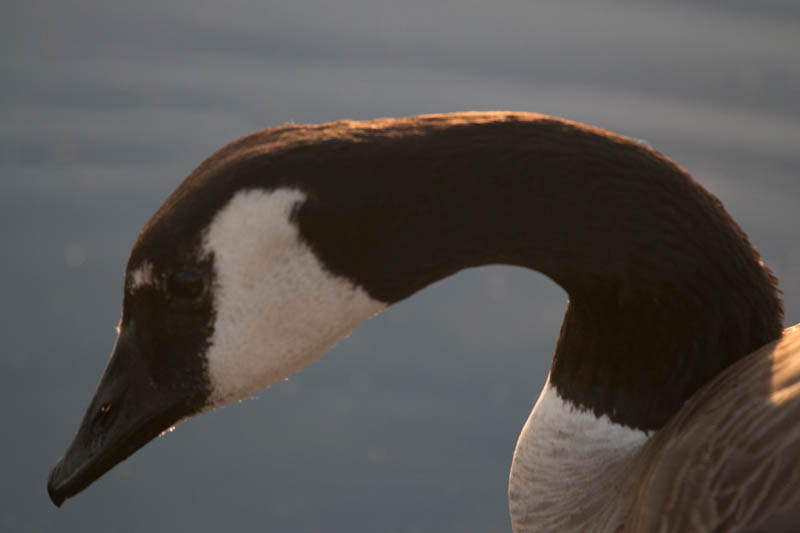goose-head: (46, 116, 403, 508)
